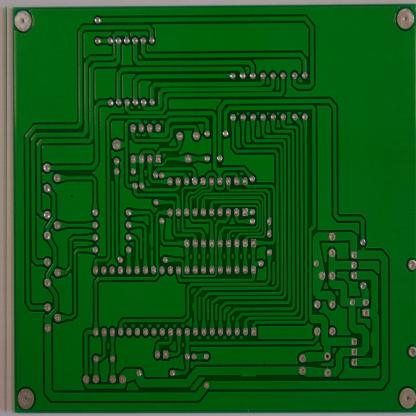spur: (238, 368, 258, 379), (368, 330, 376, 348), (189, 300, 196, 313), (359, 245, 368, 255), (148, 229, 152, 247)
